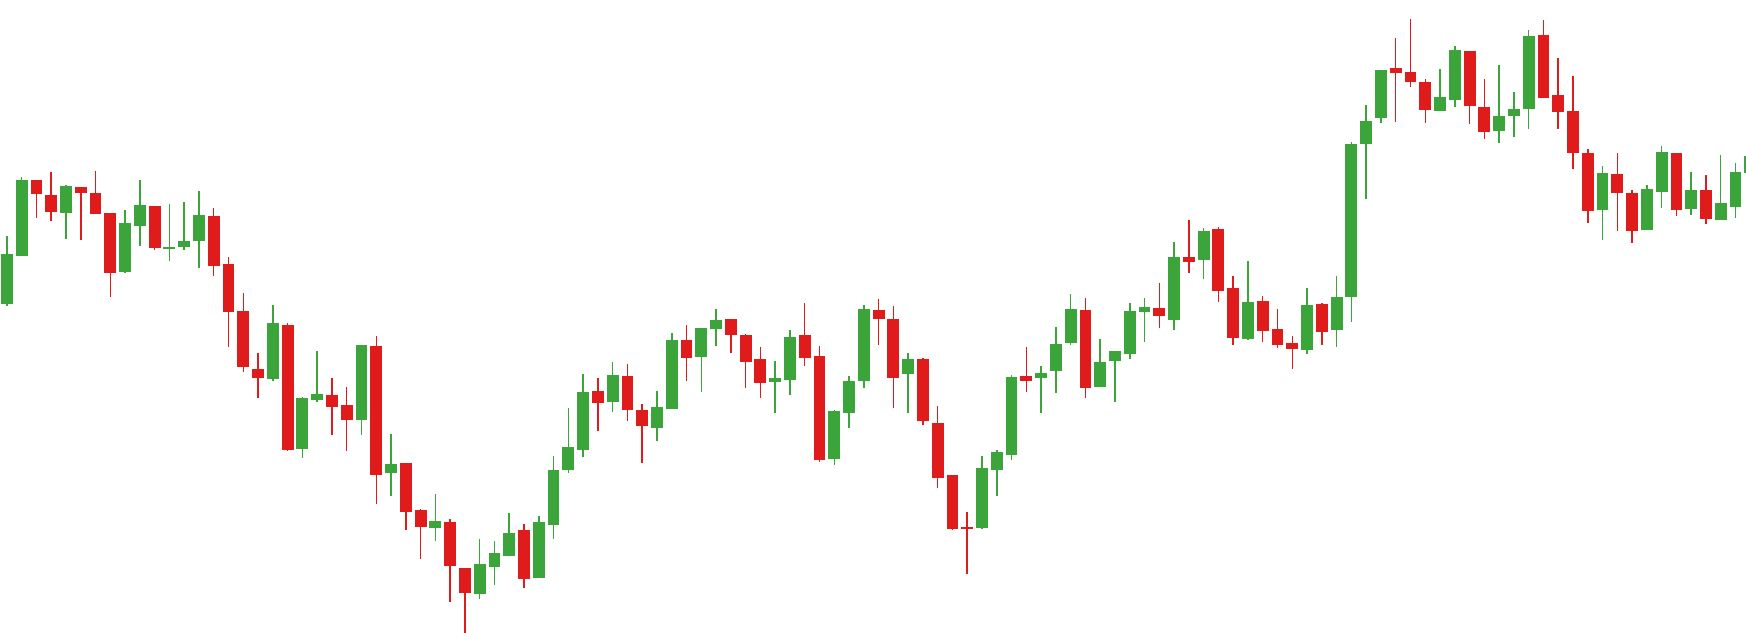buy: (813, 345, 1004, 580)
sell: (1446, 16, 1552, 116)
